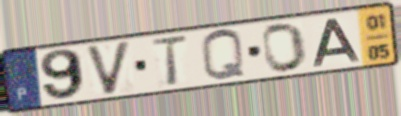9: (39, 47, 88, 103)
A: (311, 17, 364, 68)
O: (260, 21, 309, 74)
Q: (199, 27, 249, 83)
T: (148, 33, 191, 89)
V: (83, 38, 134, 98)
